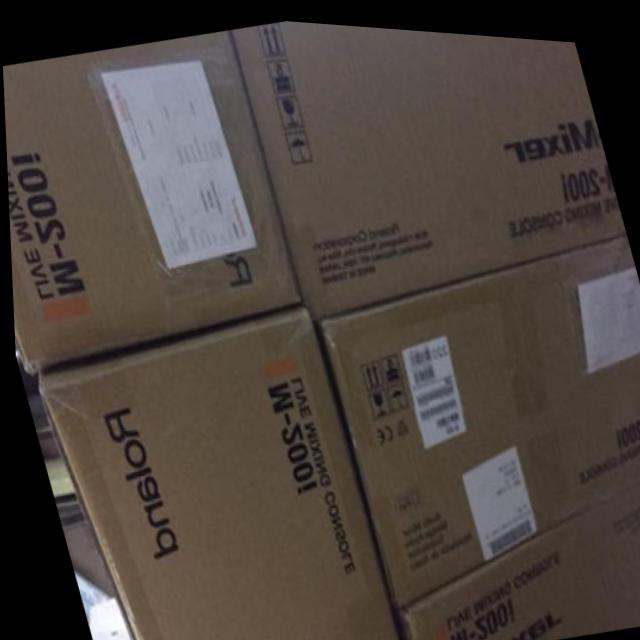box: (312, 227, 640, 605), (33, 301, 393, 640), (230, 17, 625, 313), (2, 30, 302, 374), (392, 473, 640, 640)
